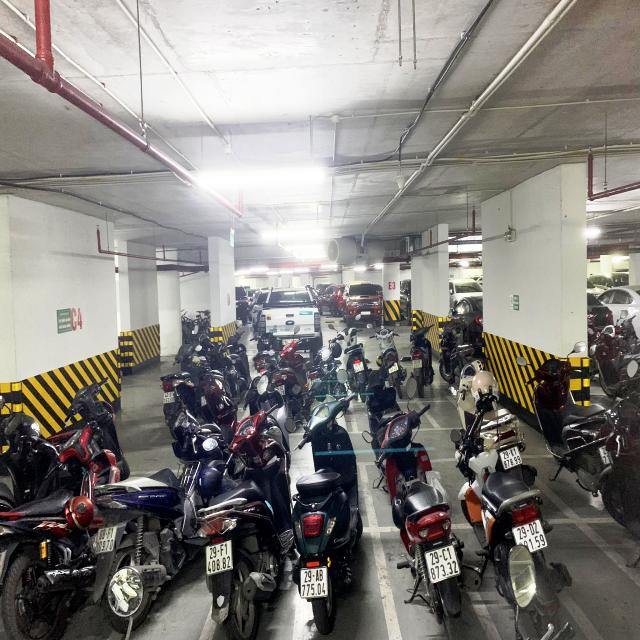license_plate: (424, 545, 462, 584), (206, 541, 234, 577), (301, 567, 329, 600), (499, 445, 524, 471)
